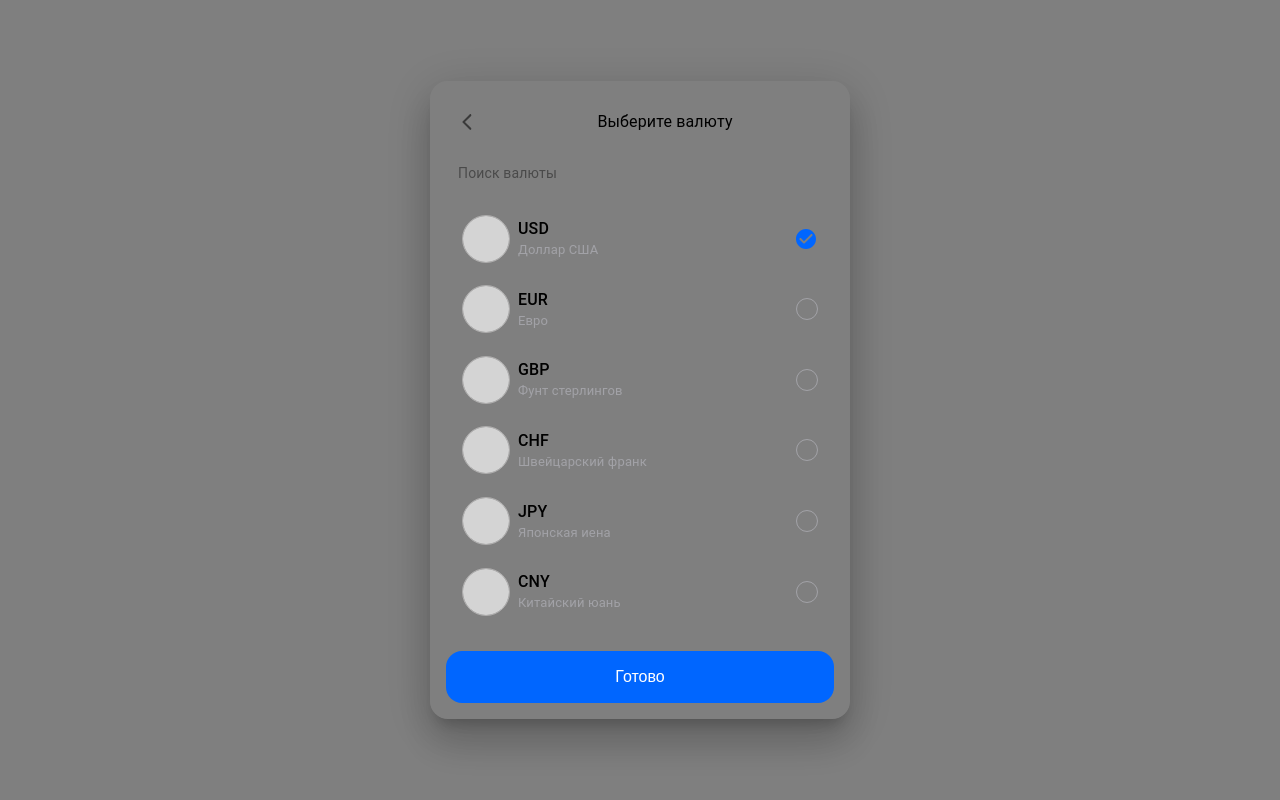
Test: CurrencySelectModal › поиск › показывает все валюты после очистки поиска
Type "фу" into the field with placeholder "Поиск валюты" at point(640, 173), box top-left (446, 151), bottom-right (834, 195)
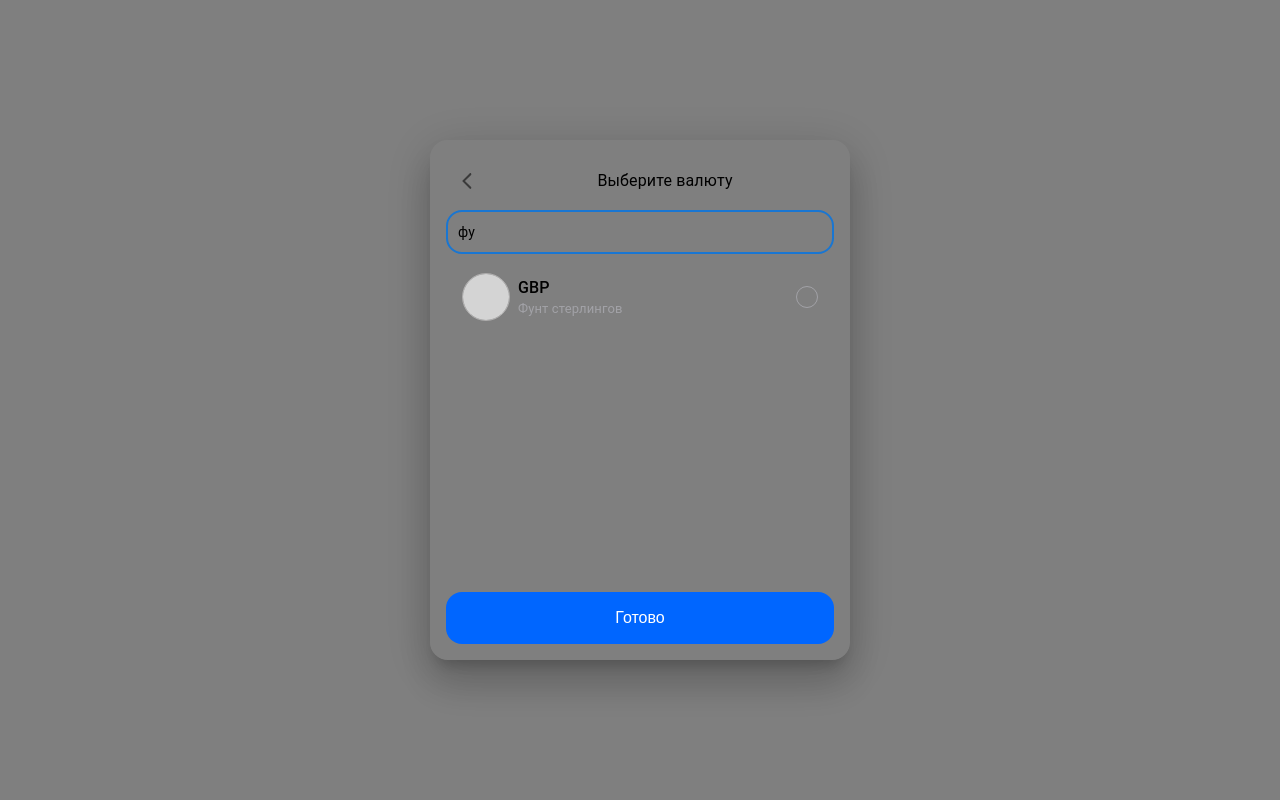
Clear the field with placeholder "Поиск валюты" at point(640, 232), box top-left (446, 210), bottom-right (834, 254)
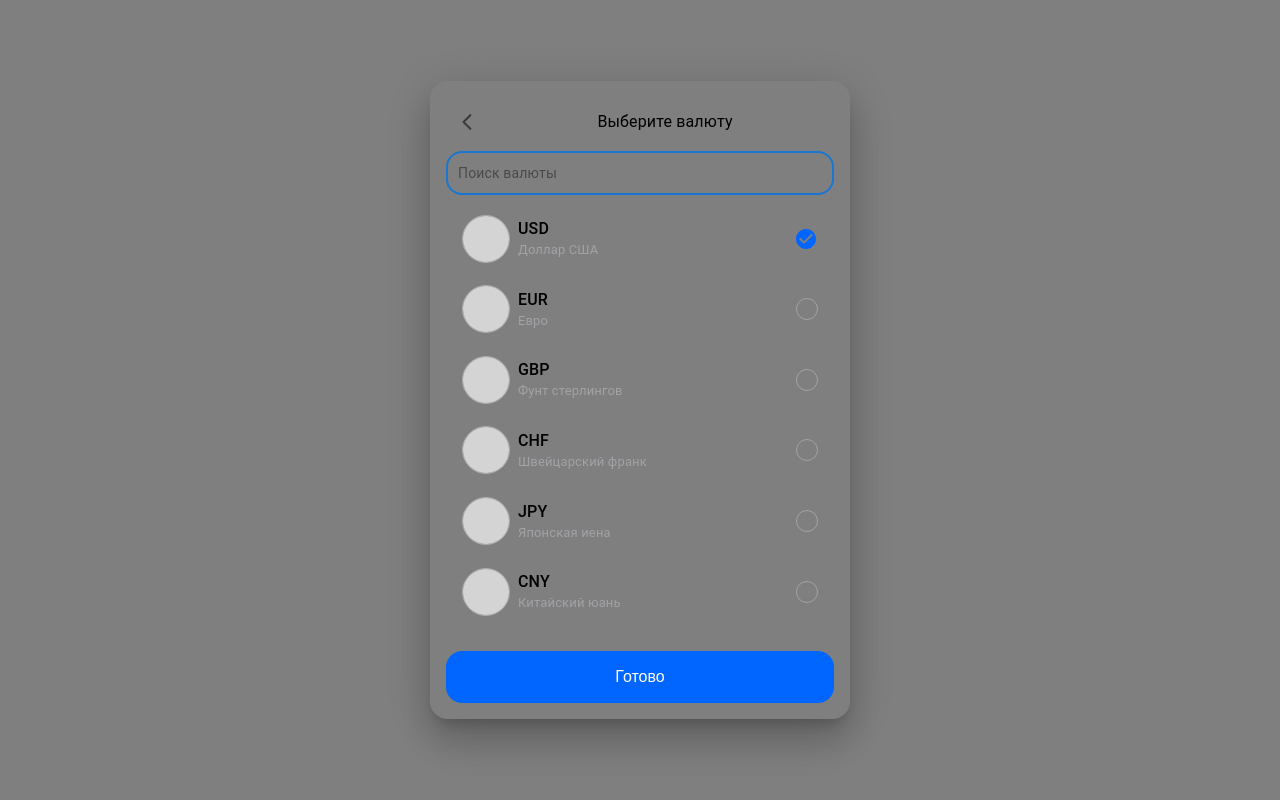
Expected: the text "USD" is shown, top-left (518, 219), bottom-right (549, 238)
Expected: the text "EUR" is shown, top-left (518, 290), bottom-right (548, 309)
Expected: the text "CHF" is shown, top-left (518, 431), bottom-right (549, 450)
